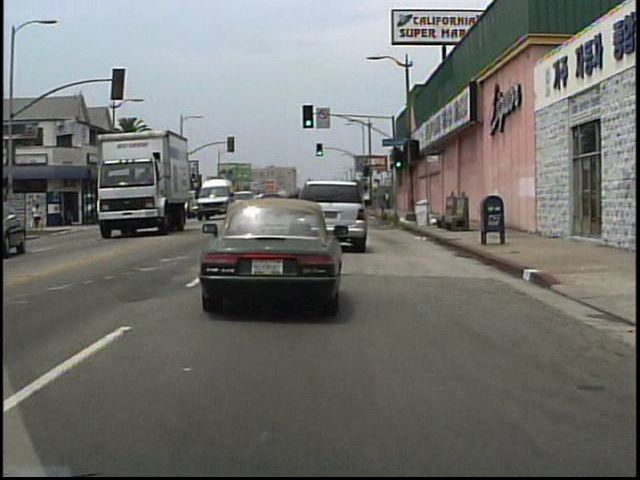person: (33, 203, 45, 230), (382, 189, 392, 210)
